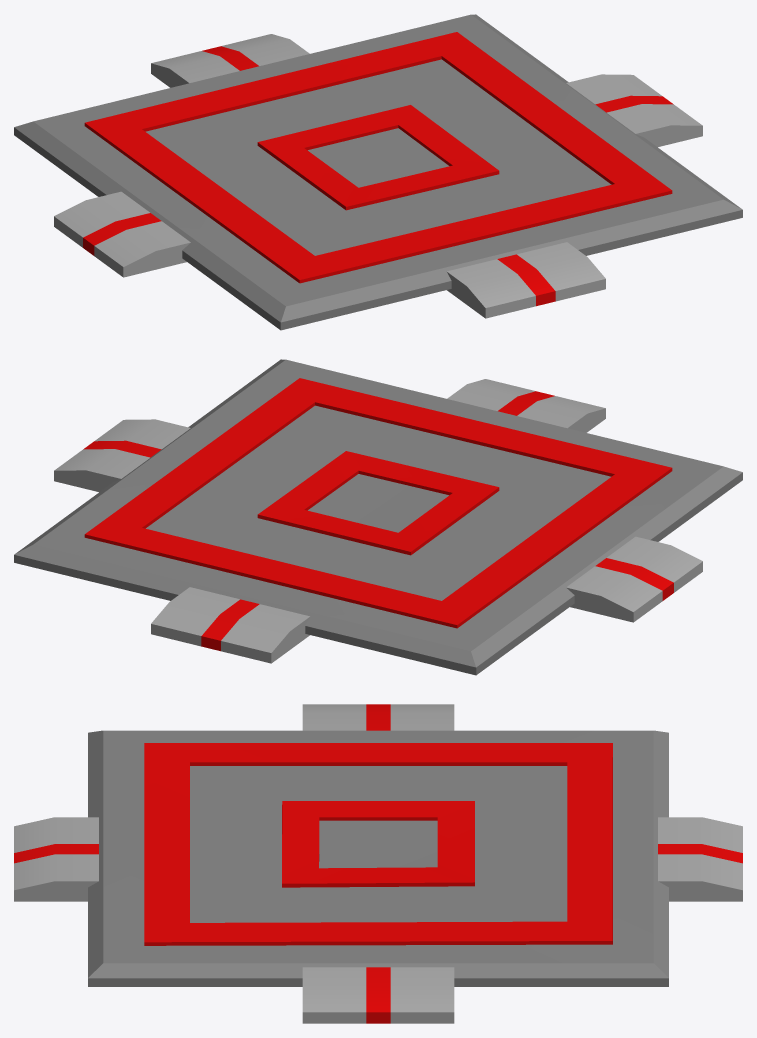
The model's file is pade_rouge.fbx.
3 views of the same model, one above another, from view 1: azimuth 30°, elevation 25°; view 2: azimuth 150°, elevation 25°; view 3: azimuth 270°, elevation 25° (orthographic). The views are drawn at different scales.
Parts seen in each view (by area): view 1: pCube7; view 2: pCube7; view 3: pCube7.
Boxes of the visible parts, left/top/right/bottom form: pCube7: left=14, top=14, right=742, bottom=330; pCube7: left=14, top=359, right=742, bottom=675; pCube7: left=14, top=704, right=742, bottom=1023.
Size of the model in its own units: 0.1462 by 0.00617 by 0.1462.
